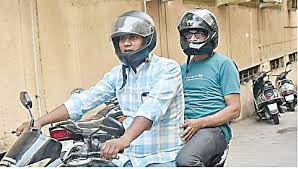com_capacete: (104, 8, 161, 73), (172, 6, 224, 63)
